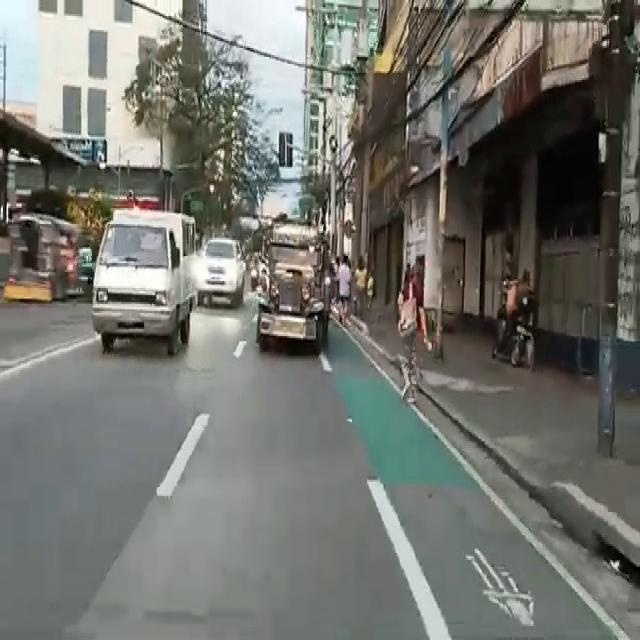car: (87, 216, 197, 359), (195, 245, 254, 306)
jeepney: (252, 221, 342, 351), (4, 213, 84, 304)
